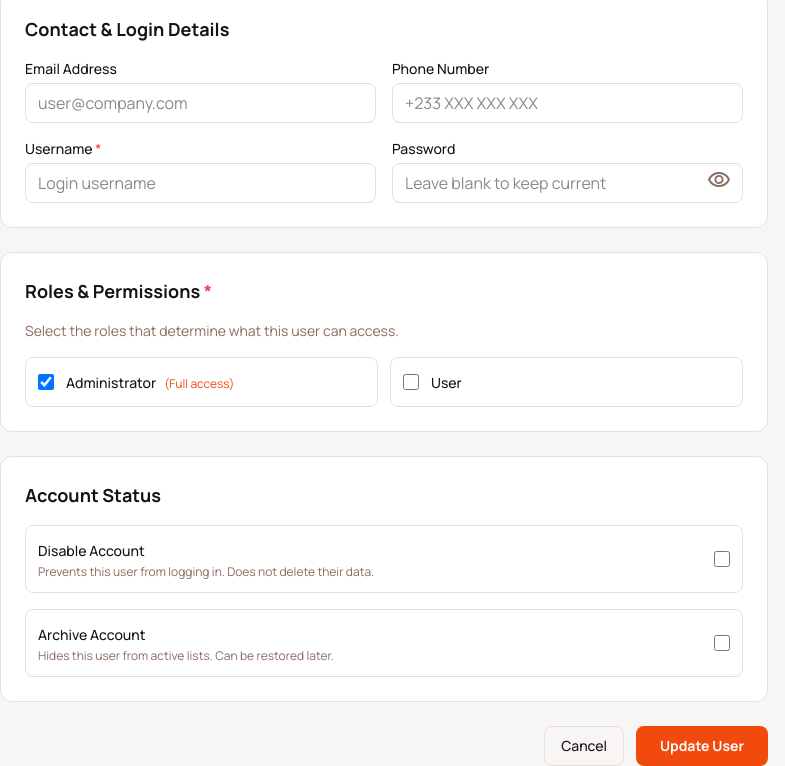
Test: UserFormPage edit mode (SOUPFIN-45) › shows a banner naming the blocking field when the username is unrecoverable
(page scrolled)
Expected: the field with placeholder "Login username" is empty, [25, 163, 376, 203]
Click the button with test id "user-form-submit-button" at (702, 746), box [636, 726, 768, 765]
(page scrolled)
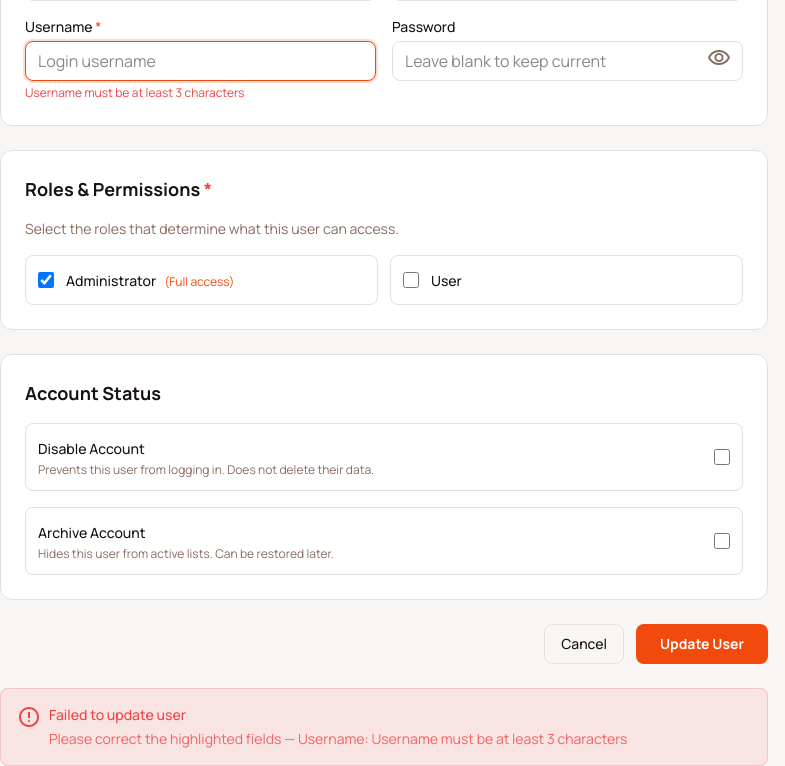
Expected: the message with test id "user-form-submit-error" shows "Username", [49, 729, 627, 748]
Expected: the message with test id "user-form-submit-error" shows "at least 3 characters", [49, 729, 627, 748]
